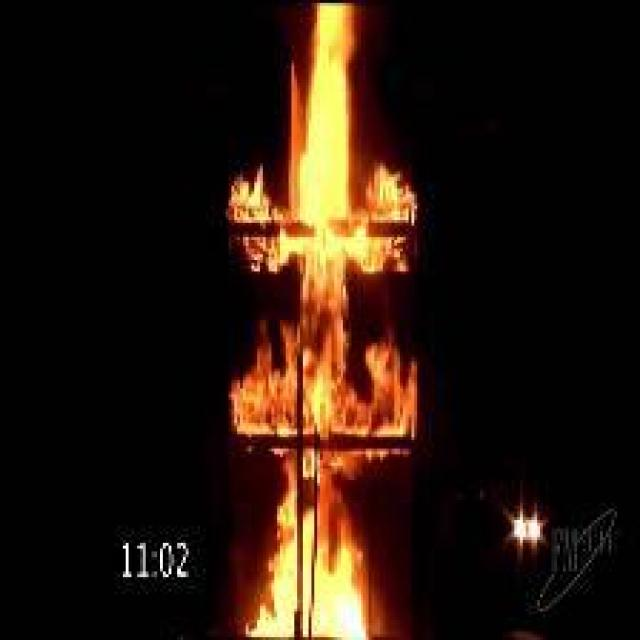fire: (215, 1, 423, 634)
other: (496, 497, 546, 553)
